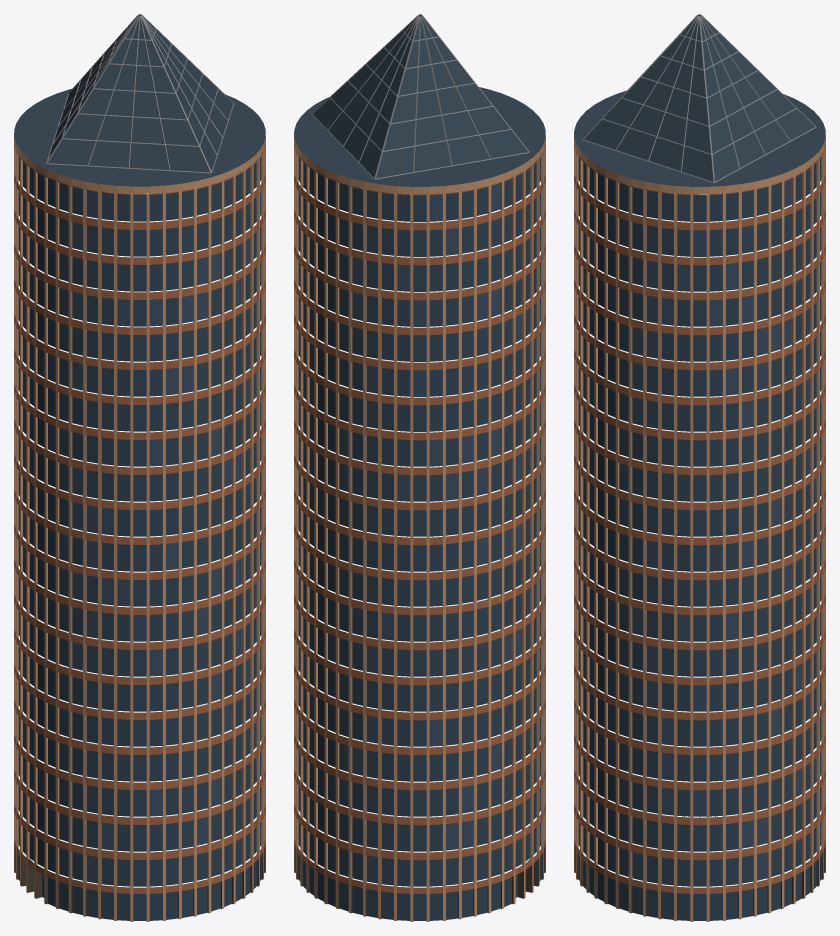
The model's file is tour-part-dieu-far.glb.
3 renders of one model, left to right at view 1: azimuth 30°, elevation 25°; view 2: azimuth 150°, elevation 25°; view 3: azimuth 270°, elevation 25°, orthographic.
Visible parts, largest first — view 1: tour-part-dieu-0-glass, tour-part-dieu-0-rib, tour-part-dieu-0-terracotta, tour-part-dieu-0-roof, tour-part-dieu-0-glow, tour-part-dieu-0-metal, tour-part-dieu-0-bronze; view 2: tour-part-dieu-0-glass, tour-part-dieu-0-rib, tour-part-dieu-0-terracotta, tour-part-dieu-0-roof, tour-part-dieu-0-glow, tour-part-dieu-0-metal, tour-part-dieu-0-bronze; view 3: tour-part-dieu-0-glass, tour-part-dieu-0-rib, tour-part-dieu-0-terracotta, tour-part-dieu-0-roof, tour-part-dieu-0-glow, tour-part-dieu-0-metal, tour-part-dieu-0-bronze.
Part boxes in pixels (<box>): tour-part-dieu-0-glass: <box>18,156,261,920</box>; tour-part-dieu-0-rib: <box>14,133,265,921</box>; tour-part-dieu-0-terracotta: <box>14,145,265,893</box>; tour-part-dieu-0-roof: <box>14,14,265,186</box>; tour-part-dieu-0-glow: <box>18,190,261,883</box>; tour-part-dieu-0-metal: <box>45,14,234,173</box>; tour-part-dieu-0-bronze: <box>14,846,265,920</box>; tour-part-dieu-0-glass: <box>298,157,540,920</box>; tour-part-dieu-0-rib: <box>294,131,545,921</box>; tour-part-dieu-0-terracotta: <box>294,146,545,893</box>; tour-part-dieu-0-roof: <box>294,14,545,186</box>; tour-part-dieu-0-glow: <box>298,157,540,883</box>; tour-part-dieu-0-metal: <box>311,14,529,179</box>; tour-part-dieu-0-bronze: <box>294,845,545,920</box>; tour-part-dieu-0-glass: <box>578,157,821,920</box>; tour-part-dieu-0-rib: <box>574,131,825,921</box>; tour-part-dieu-0-terracotta: <box>574,146,825,893</box>; tour-part-dieu-0-roof: <box>574,14,825,186</box>; tour-part-dieu-0-glow: <box>578,178,821,880</box>; tour-part-dieu-0-metal: <box>582,14,816,182</box>; tour-part-dieu-0-bronze: <box>574,816,825,920</box>.
Bounding box in the file's own units: 44.04 × 165 × 44.04.
